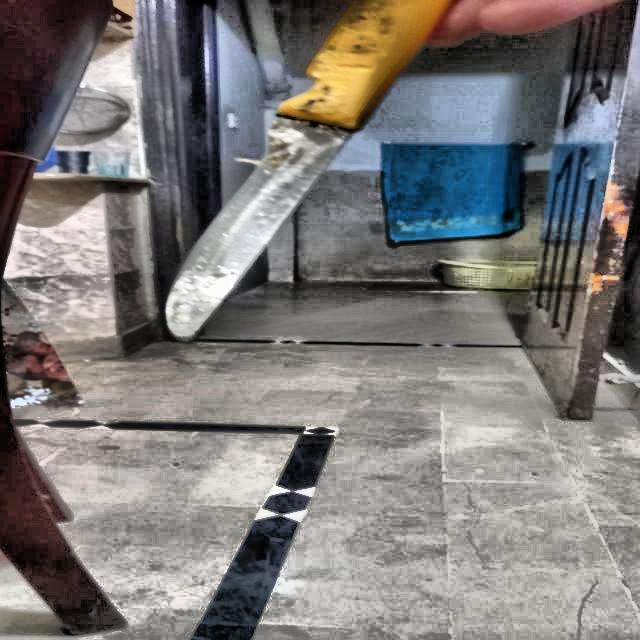knife: (166, 2, 454, 341)
